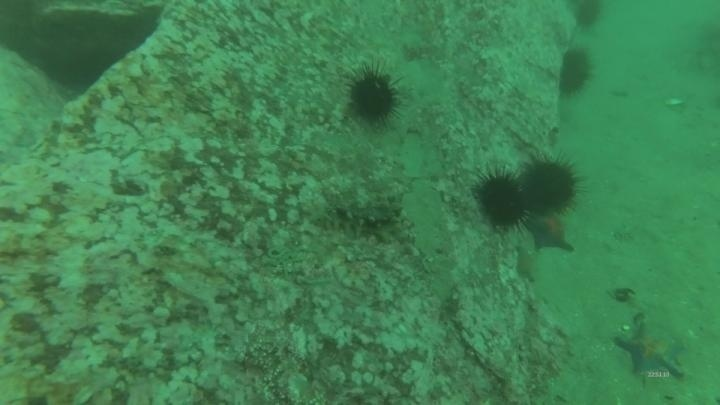echinus: (517, 152, 585, 216), (471, 167, 532, 232), (344, 63, 405, 127), (556, 46, 596, 98), (569, 1, 606, 32)
holothurian: (305, 198, 404, 242)
starfish: (612, 317, 689, 381), (523, 209, 577, 256), (512, 245, 540, 284)
